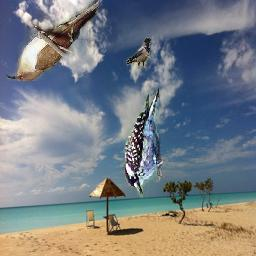Crow: (127, 37, 152, 69)
Cuckoo: (7, 1, 100, 82)
Woodpecker: (118, 80, 172, 200)
